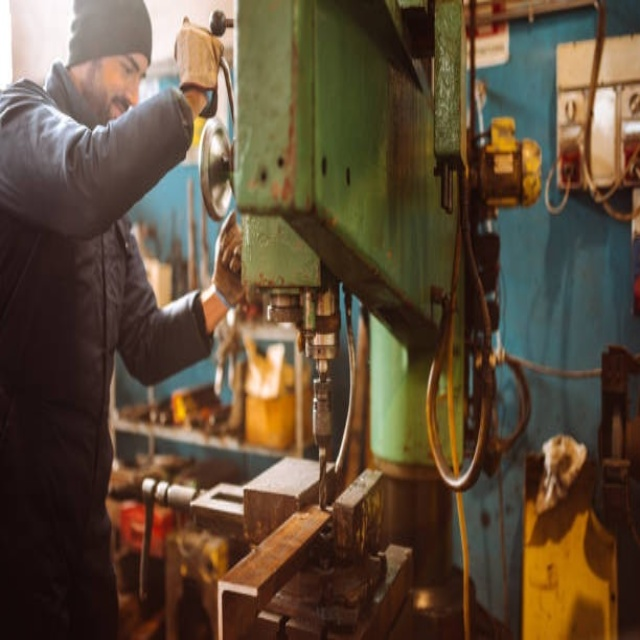Guantes: (175, 17, 226, 113), (209, 209, 244, 317)
Sin_gafas: (115, 50, 147, 89)
Sin_mascara: (105, 82, 134, 120)
